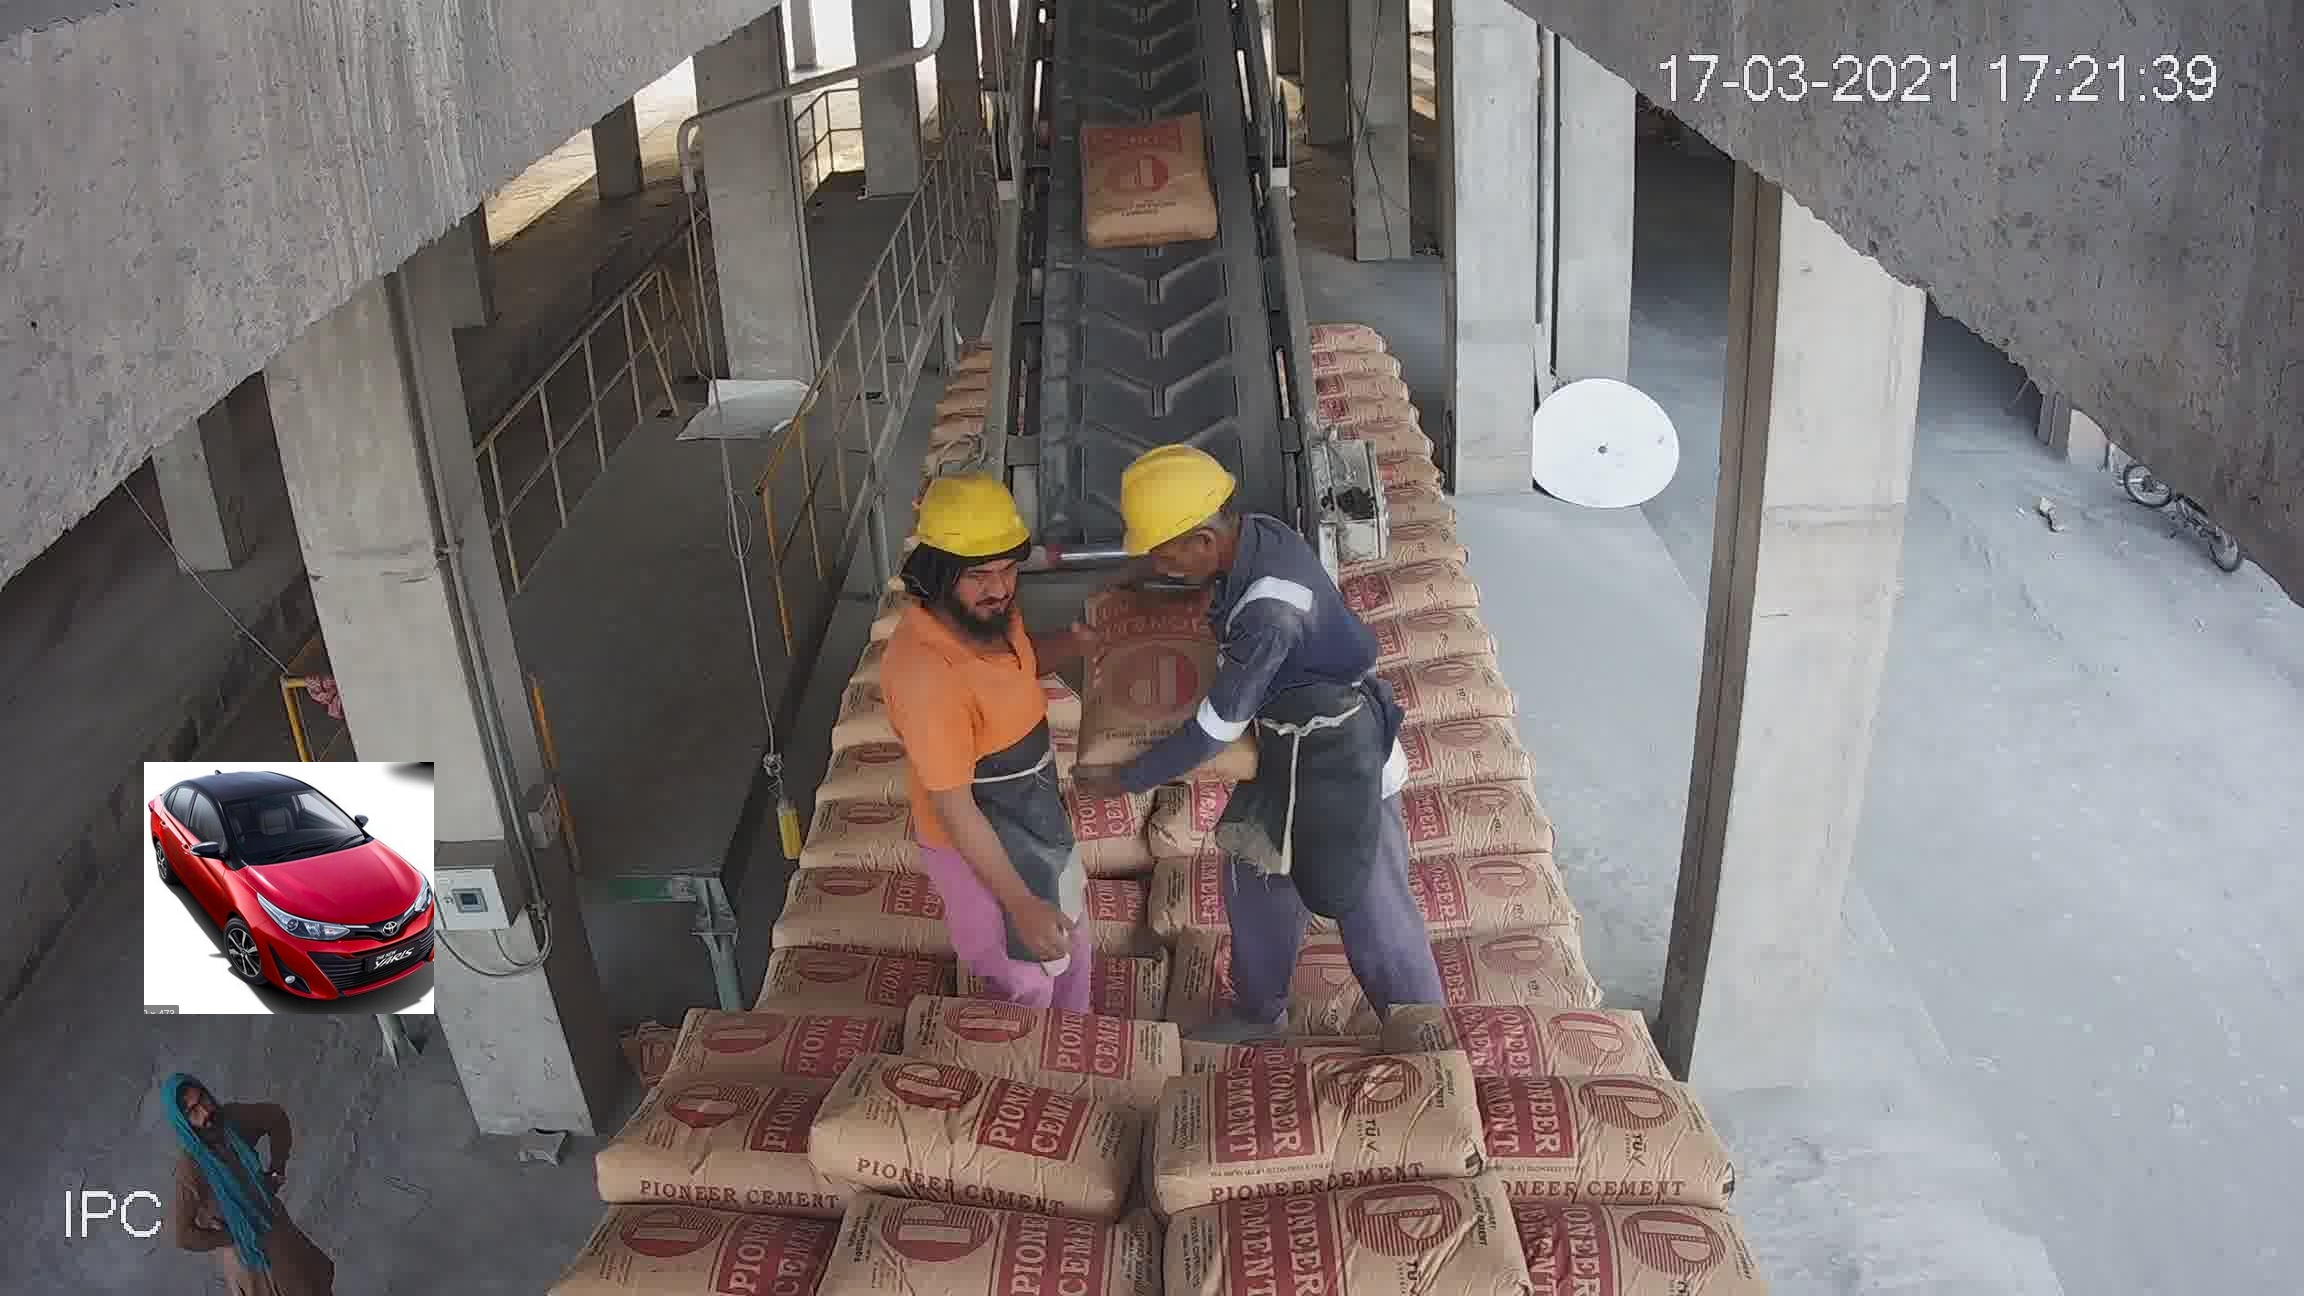bag_h: (1143, 1041, 1500, 1204), (1128, 927, 1465, 1097), (1136, 1180, 1529, 1283), (1146, 832, 1442, 959), (837, 1071, 1130, 1193), (1116, 711, 1393, 837), (783, 1198, 1158, 1291), (663, 938, 877, 1092), (1499, 1071, 1742, 1204), (1431, 964, 1700, 1081), (1499, 1184, 1790, 1290), (889, 964, 1127, 1089), (908, 729, 1135, 855), (891, 840, 1130, 957), (608, 1082, 823, 1211), (570, 1196, 855, 1290), (1413, 851, 1644, 957), (699, 855, 889, 964), (709, 763, 904, 869), (1380, 761, 1589, 850), (983, 617, 1179, 673), (1374, 650, 1519, 722), (1165, 673, 1324, 733), (1410, 698, 1518, 782), (1008, 673, 1161, 729), (1381, 600, 1492, 661), (1030, 574, 1166, 620), (1029, 725, 1166, 766), (1041, 536, 1173, 574)
belt: (1022, 16, 1310, 533)
